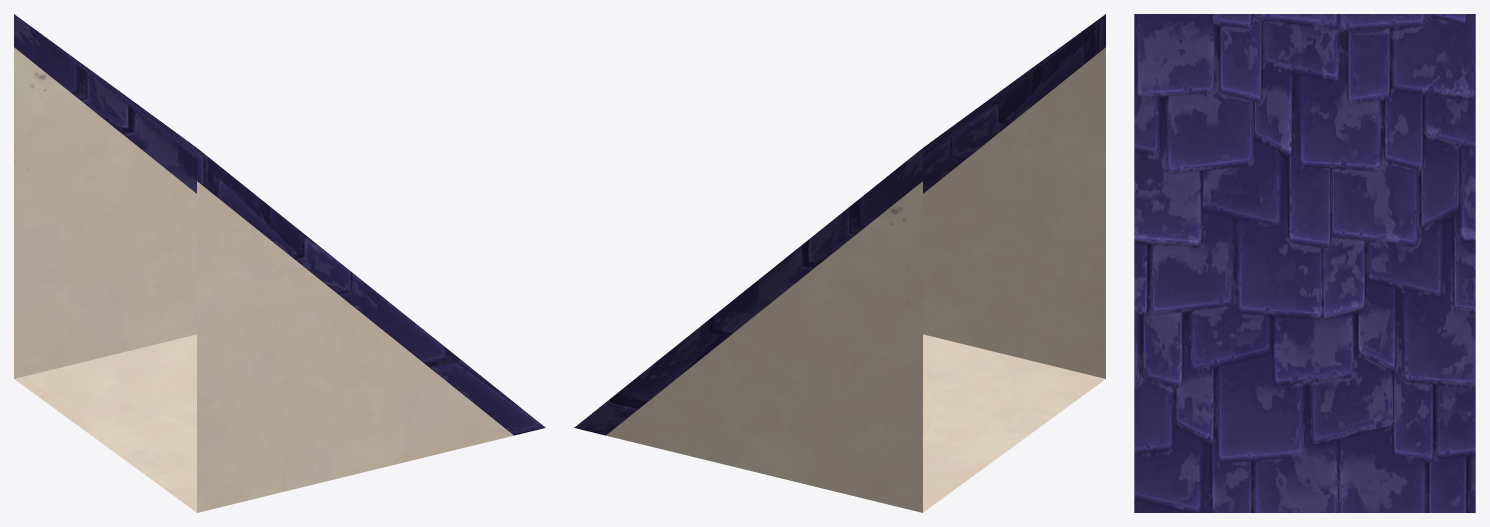
The model's file is Bridge_S_Roof_Noline.fbx.
3 views of the same model, side by side, from view 1: azimuth 30°, elevation 25°; view 2: azimuth 150°, elevation 25°; view 3: azimuth 270°, elevation 25° (orthographic). The views are drawn at different scales.
Visible parts, largest first — view 1: Bridge_S_Roof_Noline; view 2: Bridge_S_Roof_Noline; view 3: Bridge_S_Roof_Noline.
Part boxes in pixels (x1,y1,x2,y2): Bridge_S_Roof_Noline: [14, 14, 545, 512]; Bridge_S_Roof_Noline: [574, 14, 1105, 512]; Bridge_S_Roof_Noline: [1134, 14, 1475, 512].
Size of the model in its own units: 220 by 220 by 200.
2 materials, 2 textured.
